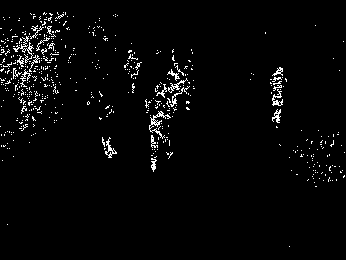person: (149, 82, 176, 171), (270, 65, 285, 127), (123, 50, 141, 93)
